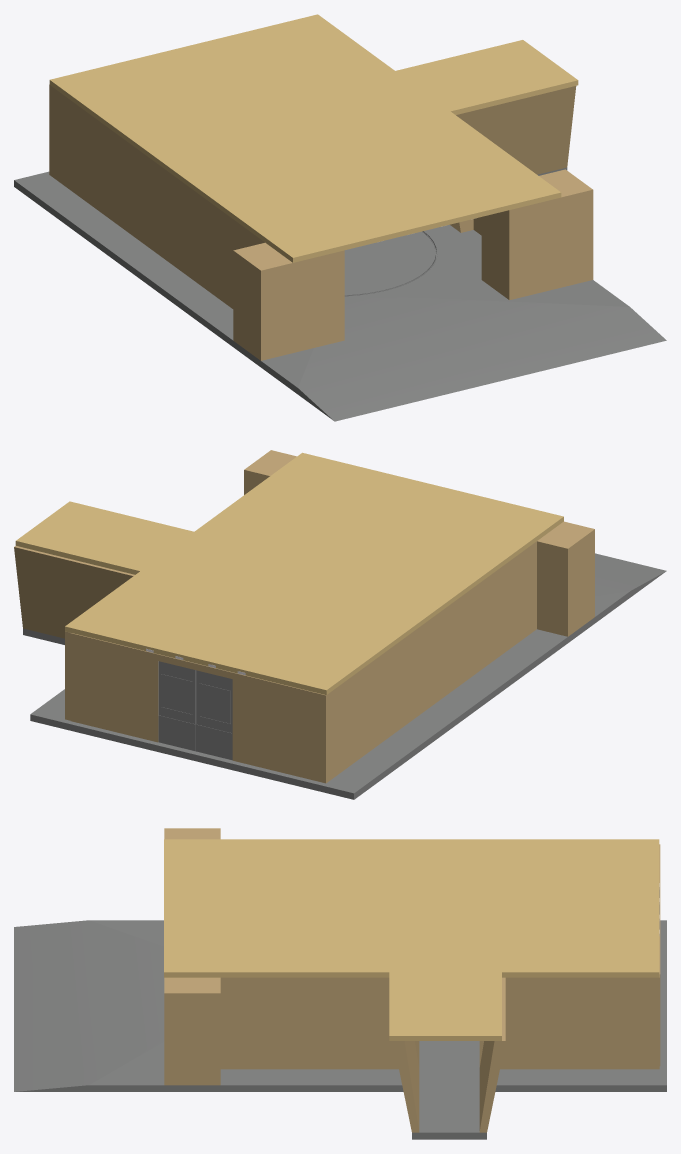
The model's file is Garage.FBX.
3 renders of one model, top to bottom at view 1: azimuth 30°, elevation 25°; view 2: azimuth 150°, elevation 25°; view 3: azimuth 270°, elevation 25°, orthographic. The views are drawn at different scales.
Visible parts, largest first — view 1: Walls, Floor, Platform; view 2: Walls, Floor, Panel; view 3: Walls, Floor.
Part boxes in pixels (left/top/right/bottom): Walls: left=49, top=14, right=593, bottom=360; Floor: left=14, top=167, right=666, bottom=421; Platform: left=344, top=231, right=435, bottom=295; Walls: left=14, top=450, right=594, bottom=783; Floor: left=23, top=553, right=666, bottom=799; Panel: left=158, top=661, right=232, bottom=760; Walls: left=164, top=828, right=660, bottom=1132; Floor: left=14, top=920, right=666, bottom=1139.
Bounding box in the file's own units: 528 × 121 × 685.
